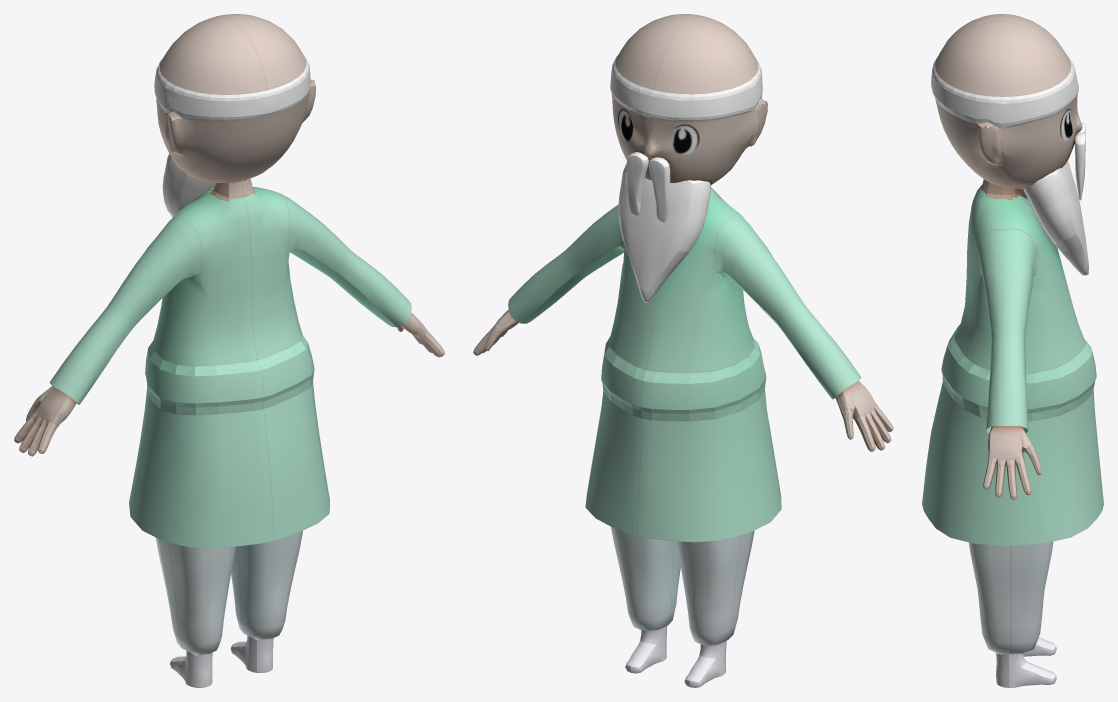
The model's file is god.fbx.
3 renders of one model, left to right at view 1: azimuth 30°, elevation 25°; view 2: azimuth 150°, elevation 25°; view 3: azimuth 270°, elevation 25°, orthographic. The views are drawn at different scales.
Parts seen in each view (by area): view 1: 얼굴001; view 2: 얼굴001; view 3: 얼굴001.
Part boxes in pixels (box(x1,y1,x2,y2)): 얼굴001: box(14, 14, 444, 687); 얼굴001: box(473, 14, 893, 687); 얼굴001: box(922, 14, 1103, 687).
Bounding box in the file's own units: 104 × 156 × 39.83.
Materials: 1 (1 with a texture image).
